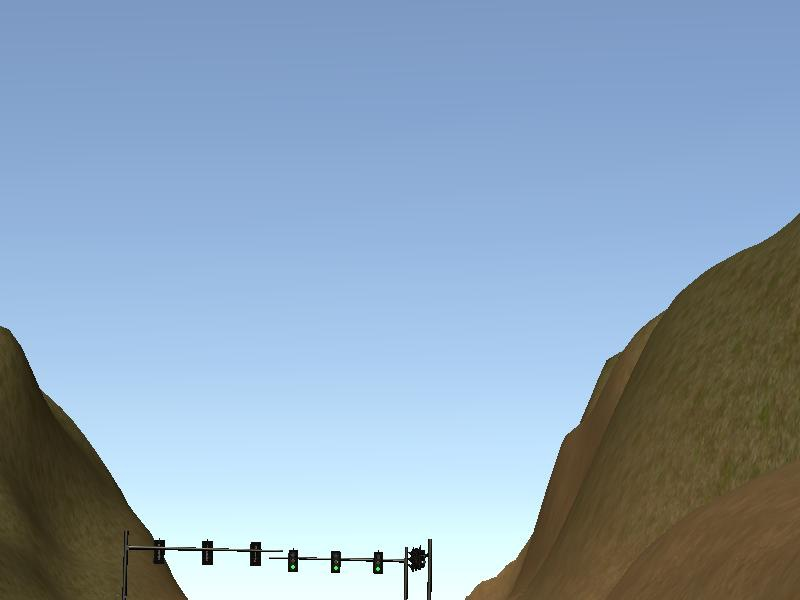green_light: (330, 552, 342, 574), (287, 549, 299, 570), (373, 551, 384, 572)
